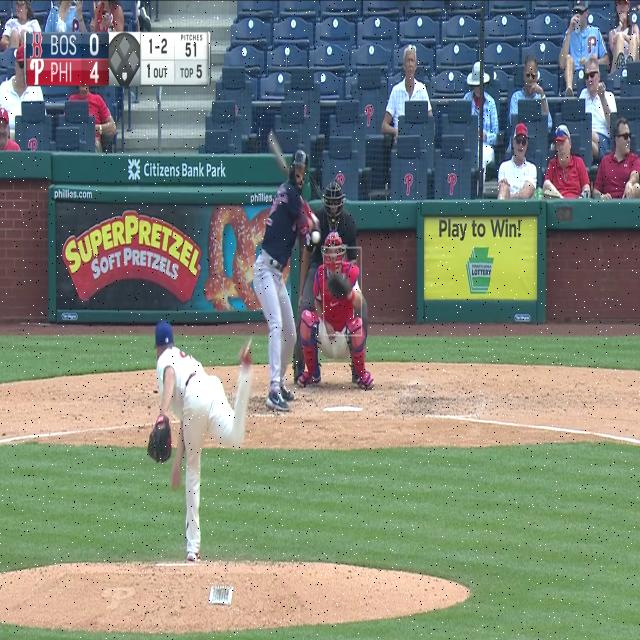baseball: (311, 230, 321, 244)
